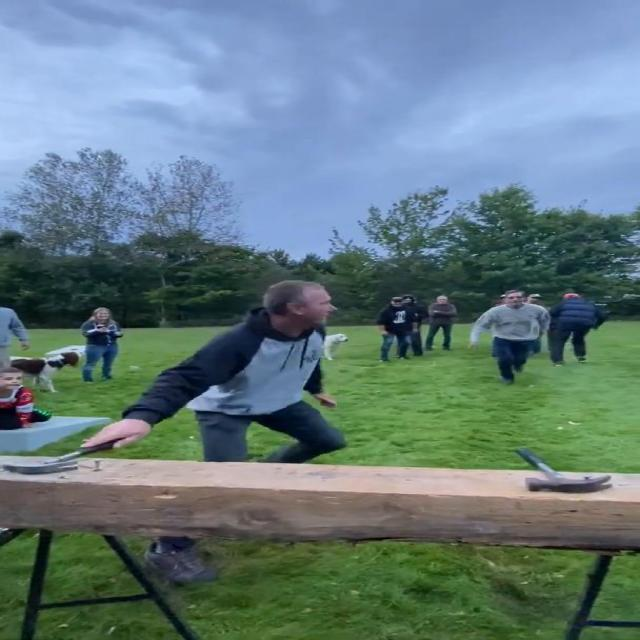hammer: (514, 447, 614, 493), (2, 440, 118, 474)
